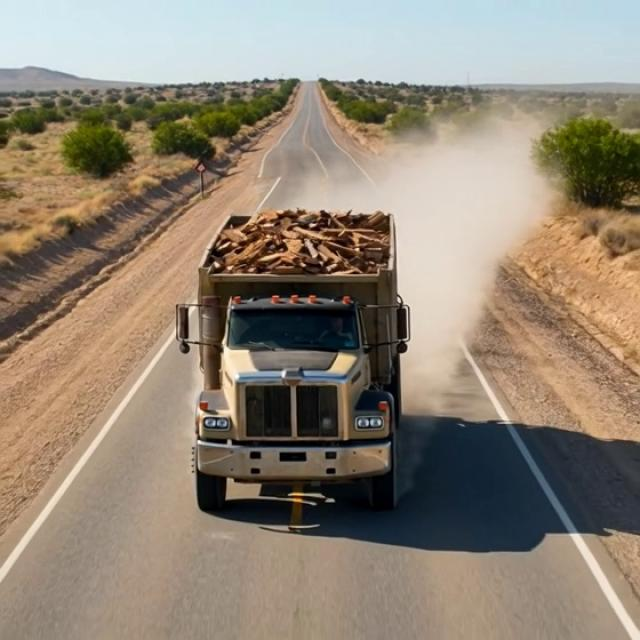trailer: (188, 204, 404, 280)
truck: (176, 190, 425, 511)
